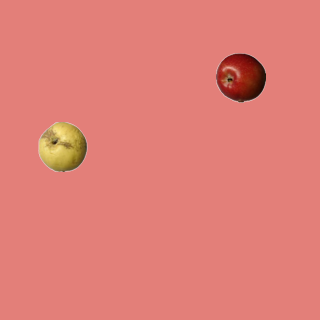Apple Braeburn: (215, 52, 265, 102)
Apple Golden 1: (37, 121, 87, 171)
